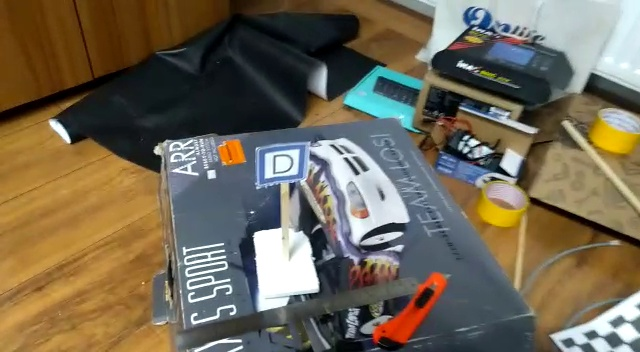durak: (258, 144, 309, 189)
